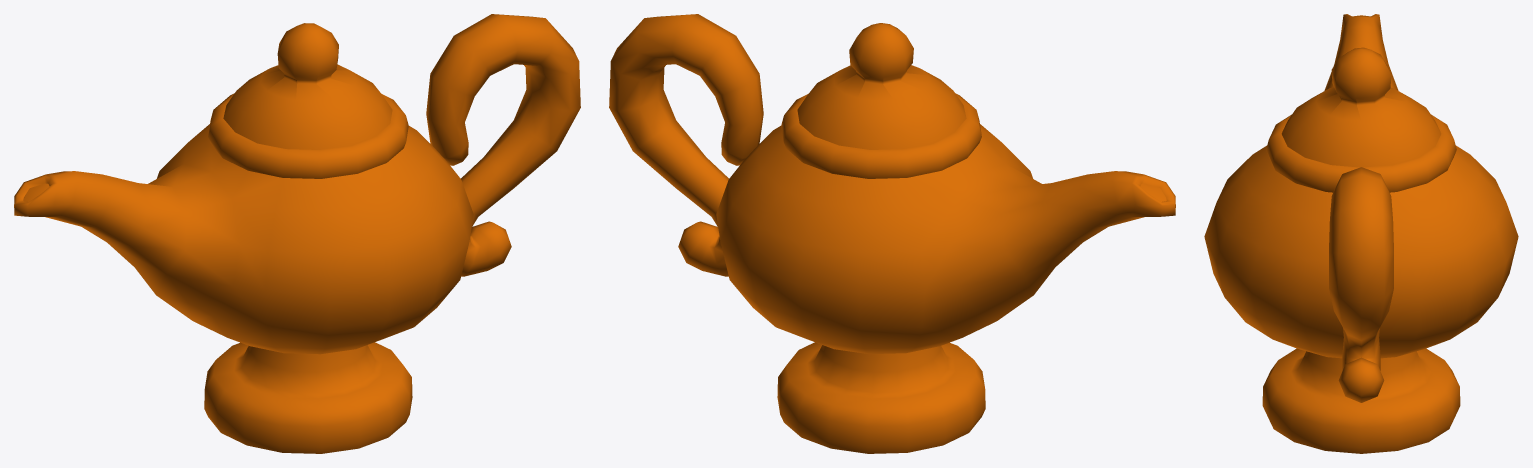
Rendered from lamp.fbx.
The picture shows the model from 3 angles, left to right: view 1: azimuth 30°, elevation 25°; view 2: azimuth 150°, elevation 25°; view 3: azimuth 270°, elevation 25°; orthographic projection. The views are drawn at different scales.
Parts seen in each view (by area): view 1: lamp; view 2: lamp; view 3: lamp.
Boxes of the visible parts, x1=… form: lamp: x1=14, y1=14, x2=580, y2=453; lamp: x1=609, y1=14, x2=1175, y2=453; lamp: x1=1204, y1=14, x2=1518, y2=453.
Bounding box in the file's own units: 80.01 × 52.81 × 41.25.
